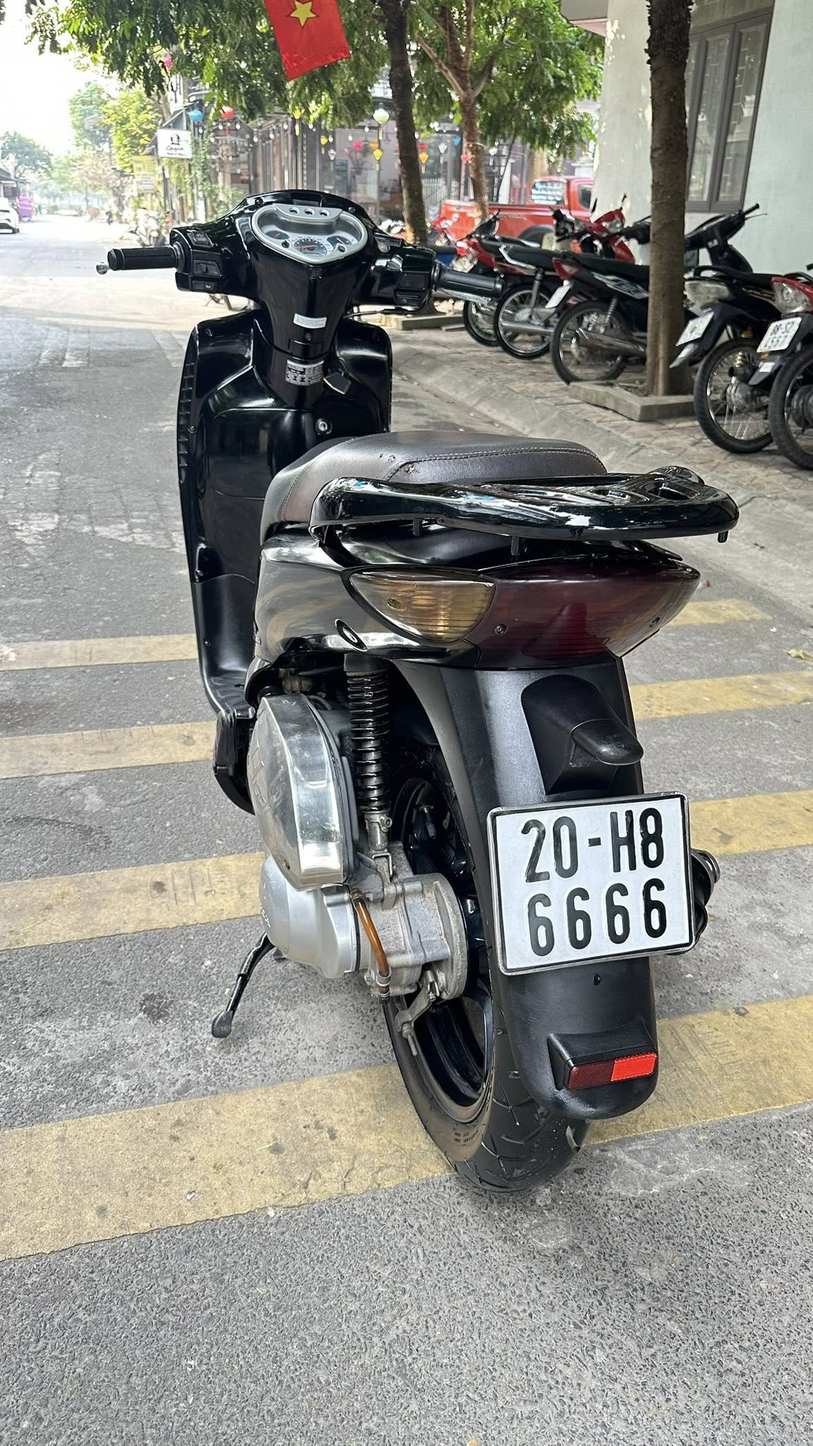bien_so: (477, 784, 707, 991)
